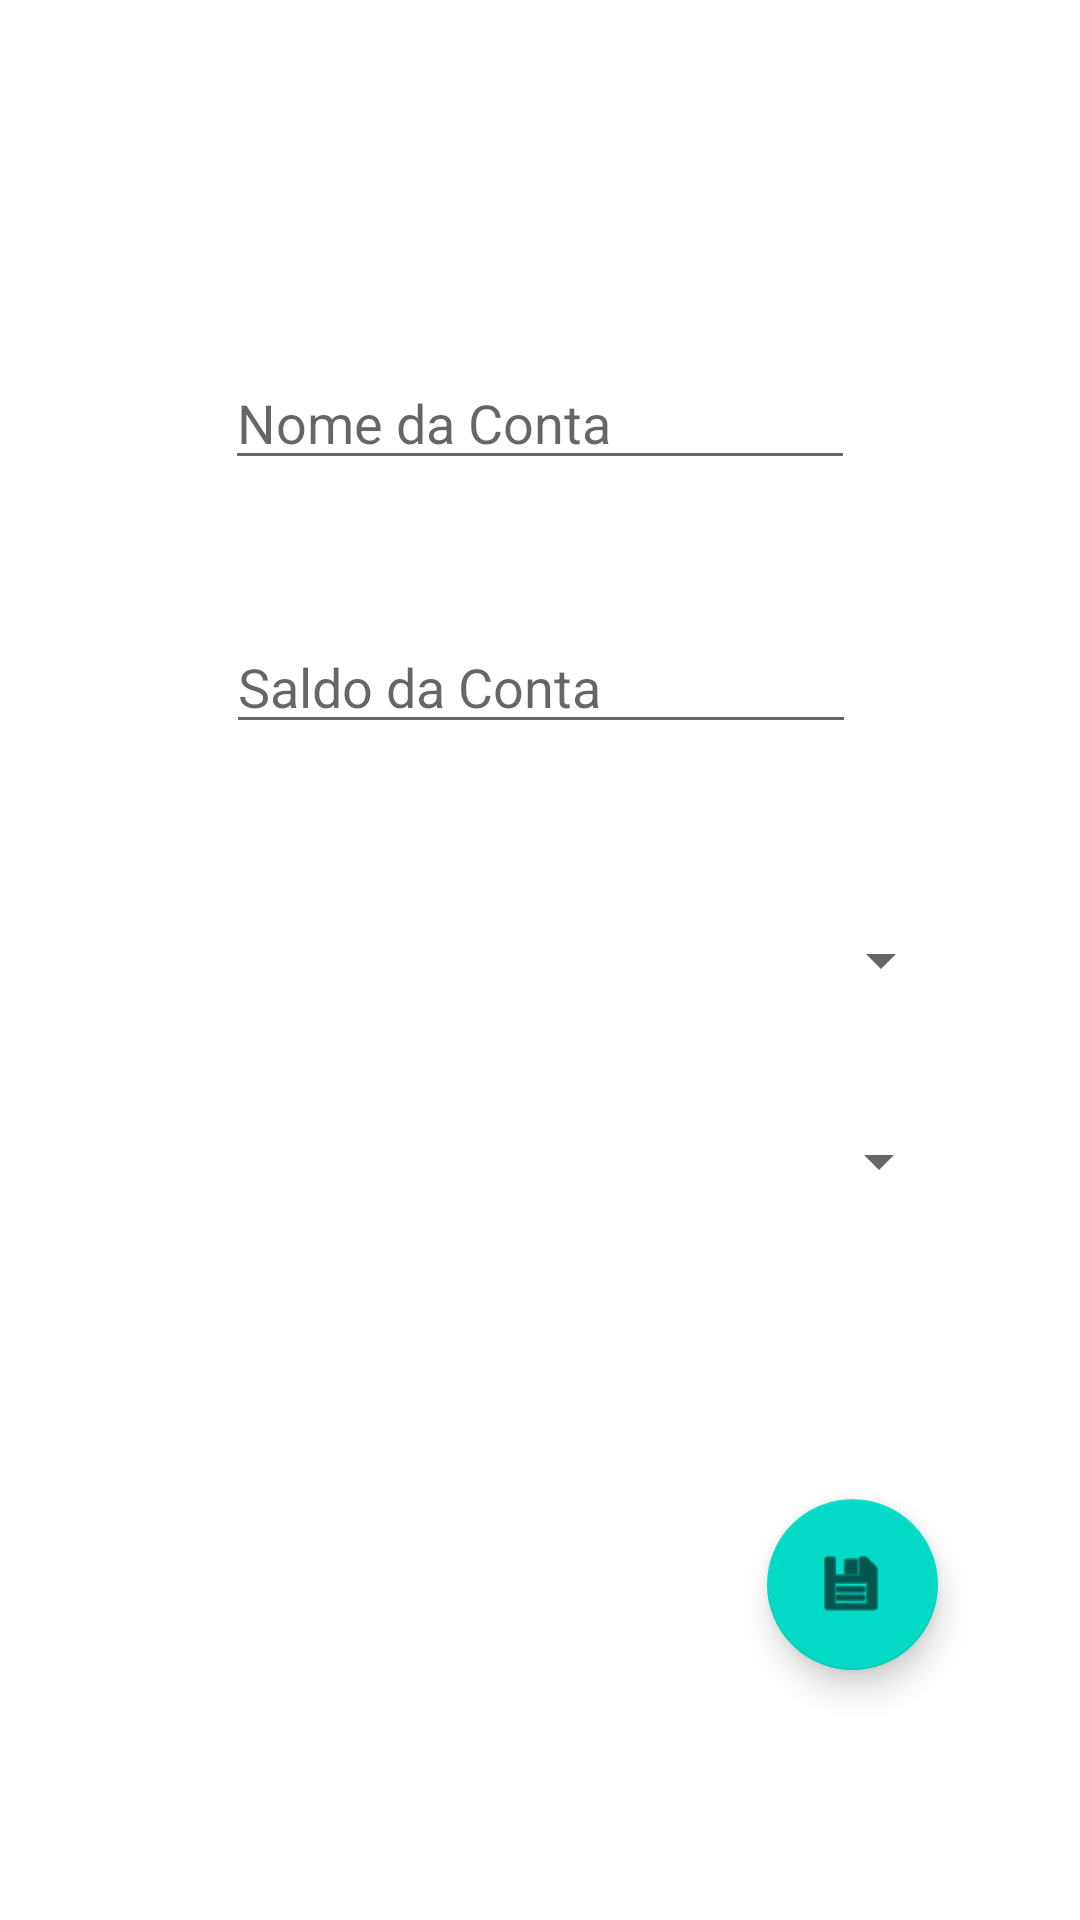

Screen size 1080w x 1920h. Icon name, then its box in pixels as (x1, y1, x2, y2):
save: (767, 1499, 938, 1670)
